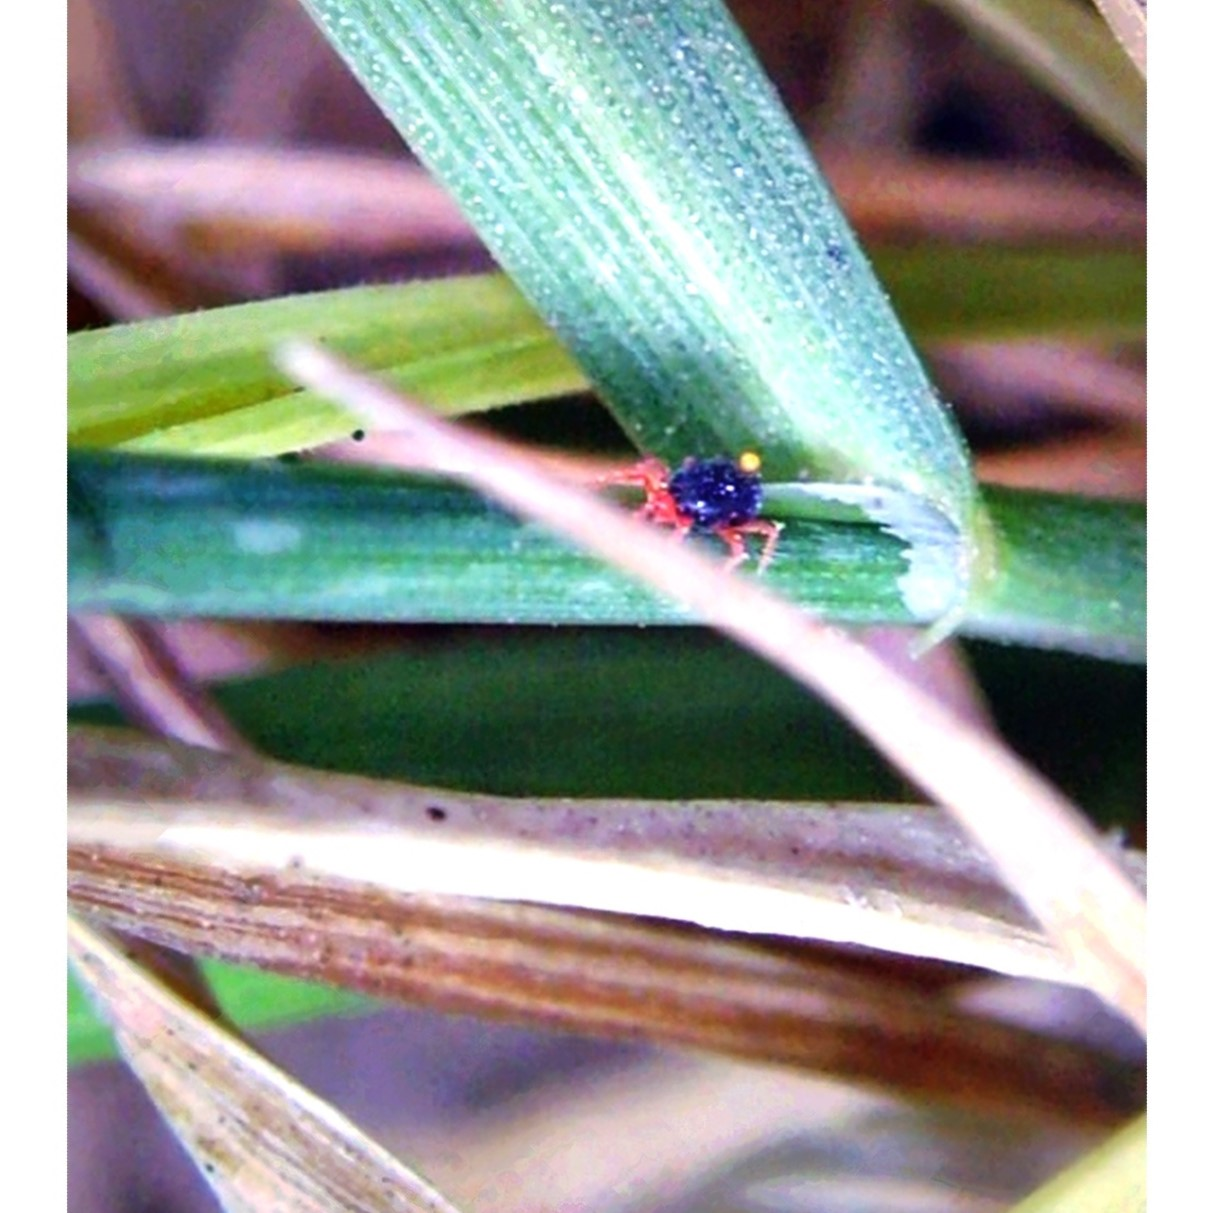Wheat Red Spider: (595, 407, 815, 606)
